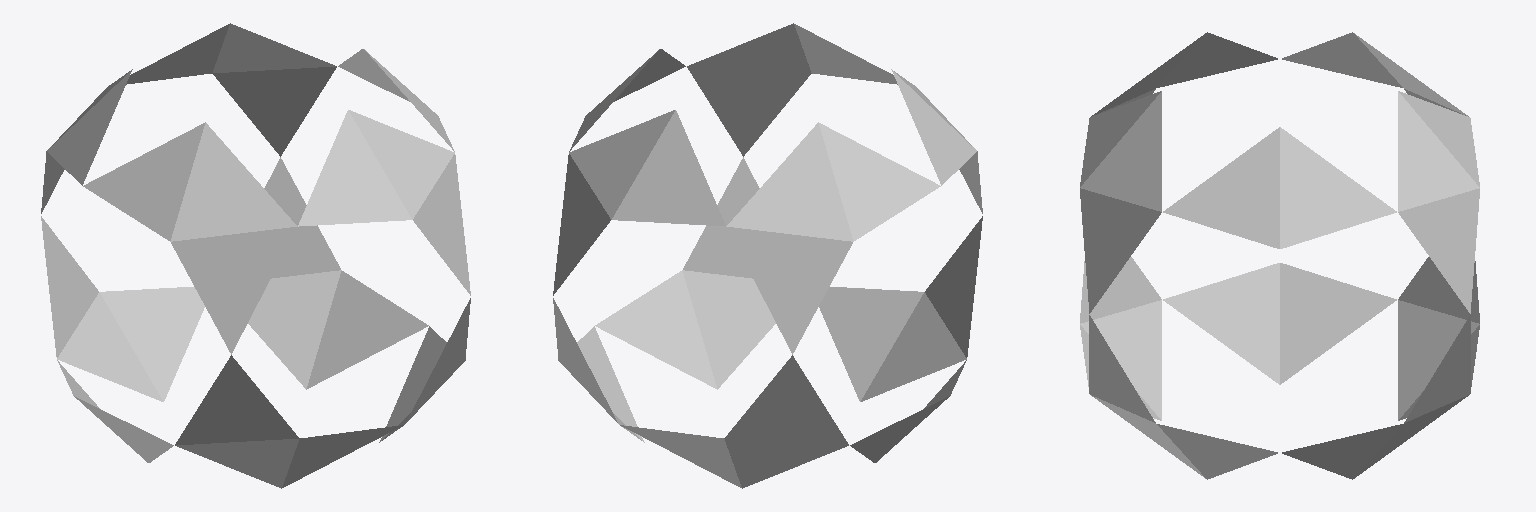
File: bounding-radius.obj
3 renders of one model, left to right at view 1: azimuth 30°, elevation 25°; view 2: azimuth 150°, elevation 25°; view 3: azimuth 270°, elevation 25°, orthographic.
Visible parts, largest first — view 1: bounding-radius; view 2: bounding-radius; view 3: bounding-radius.
Part boxes in pixels (left/top/right/bottom): bounding-radius: left=41, top=23, right=470, bottom=488; bounding-radius: left=553, top=23, right=982, bottom=488; bounding-radius: left=1080, top=32, right=1479, bottom=479.
Bounding box in the file's own units: 1.79 × 1.7 × 1.7.